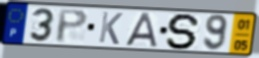3: (29, 7, 55, 43)
9: (201, 13, 229, 53)
A: (124, 12, 159, 48)
K: (97, 10, 125, 46)
P: (55, 8, 90, 45)
S: (165, 12, 202, 51)
